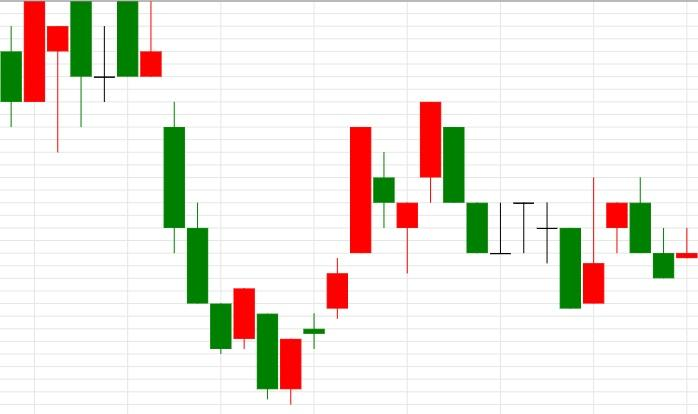bearish_engulfing_fall: (559, 177, 651, 308)
hanging_man_fall: (0, 0, 69, 153)
inverse_hammer_rise: (419, 101, 605, 309)
